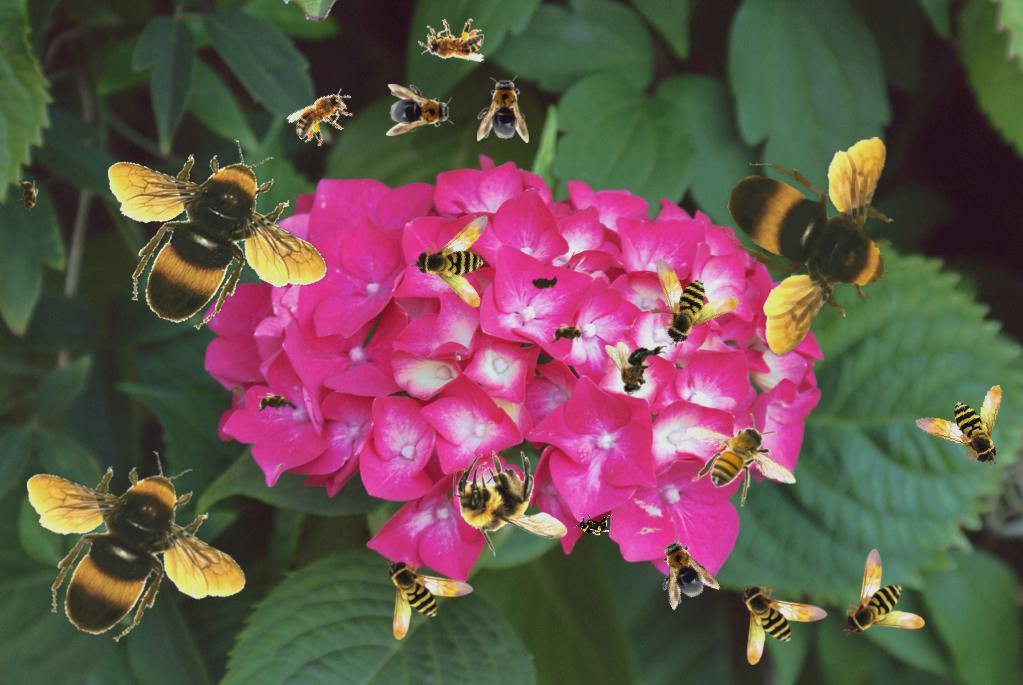Bee: (108, 139, 328, 330), (719, 137, 910, 357), (27, 451, 247, 642), (407, 196, 527, 316), (631, 233, 745, 351), (453, 450, 568, 557), (686, 413, 797, 507), (909, 371, 1011, 469), (386, 558, 474, 640), (740, 583, 828, 665), (843, 548, 925, 636), (643, 527, 721, 613), (284, 77, 364, 154), (416, 16, 486, 67), (477, 75, 529, 143), (386, 84, 454, 136), (605, 342, 667, 395), (254, 392, 294, 414), (17, 176, 39, 216), (524, 271, 564, 293), (548, 323, 588, 345), (573, 514, 613, 536)
